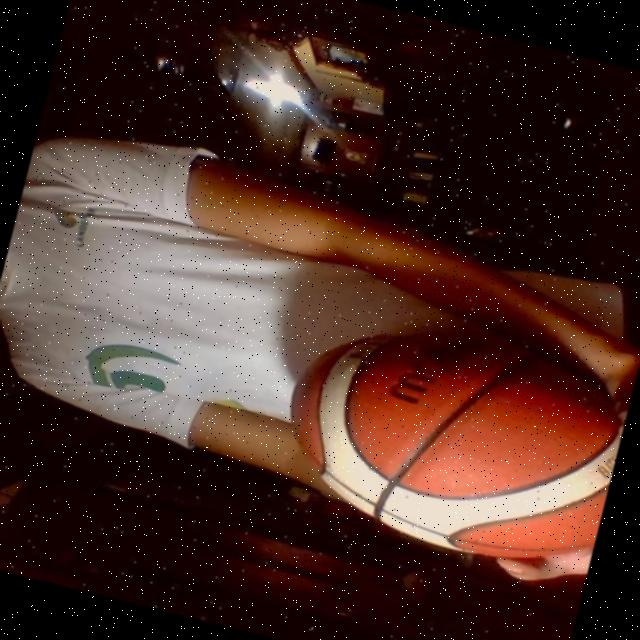ball: (266, 291, 638, 584)
